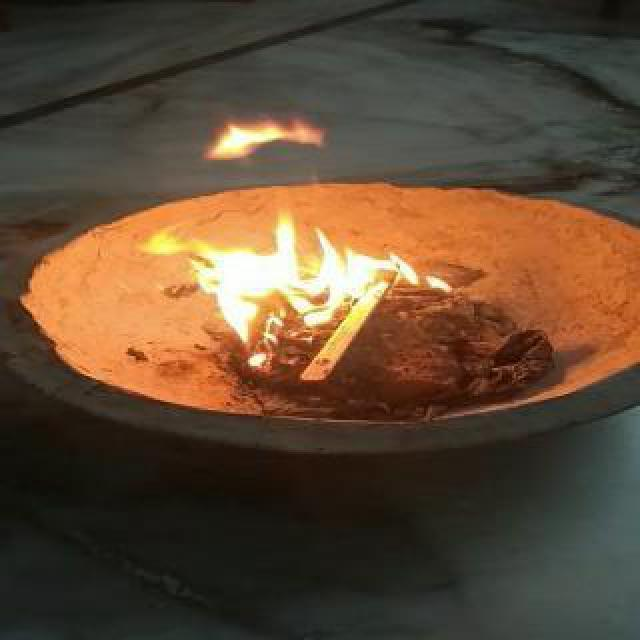Fire: (120, 208, 464, 350), (174, 106, 344, 170)
